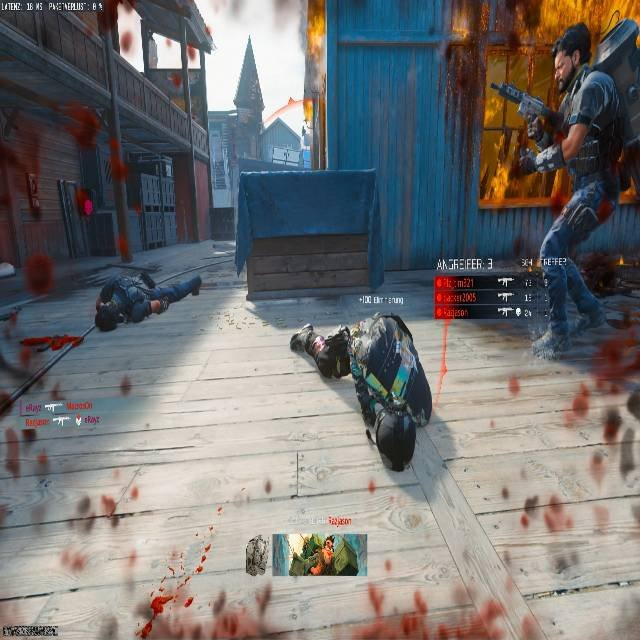head: (348, 314, 415, 389), (551, 23, 592, 86), (289, 323, 314, 356), (94, 304, 118, 332), (95, 286, 117, 311)
player: (518, 23, 640, 361), (288, 313, 433, 475)
